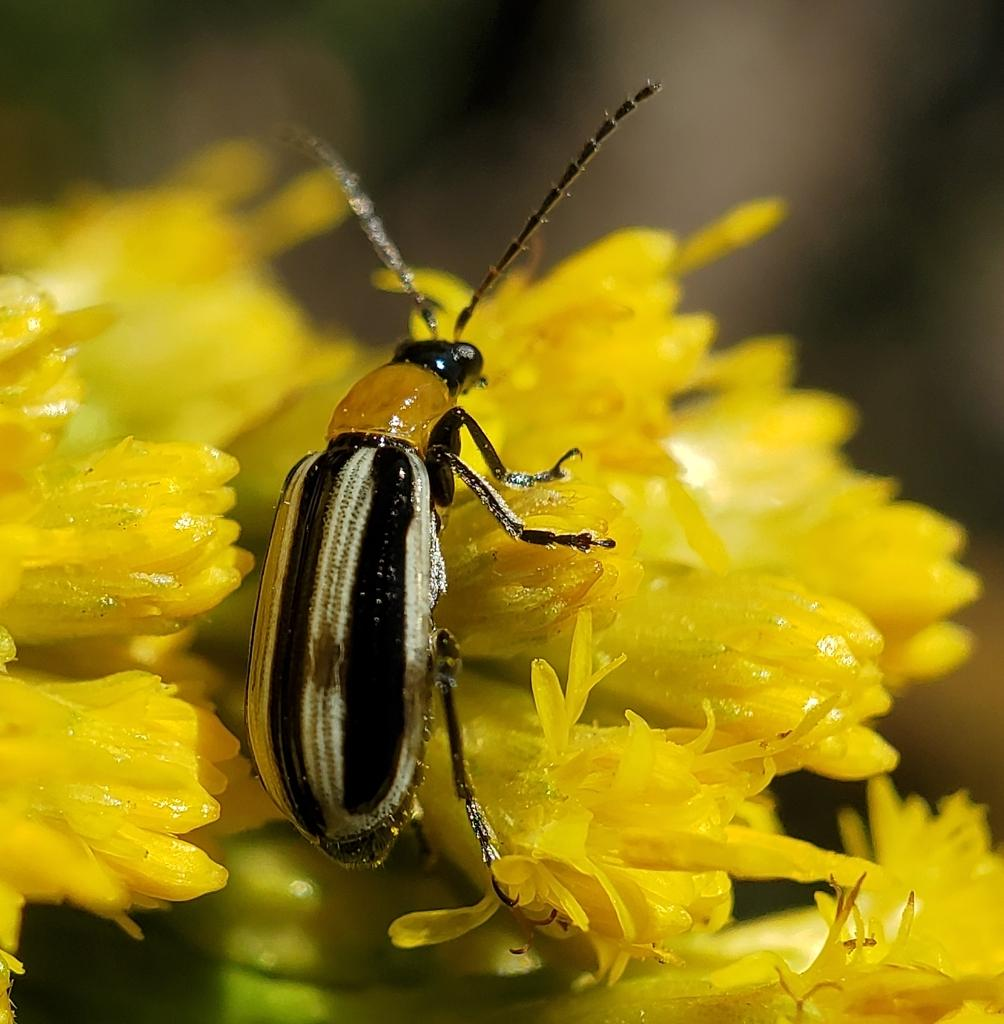potato_beetle: (76, 0, 804, 1024)
